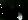person: (18, 6, 25, 20)
